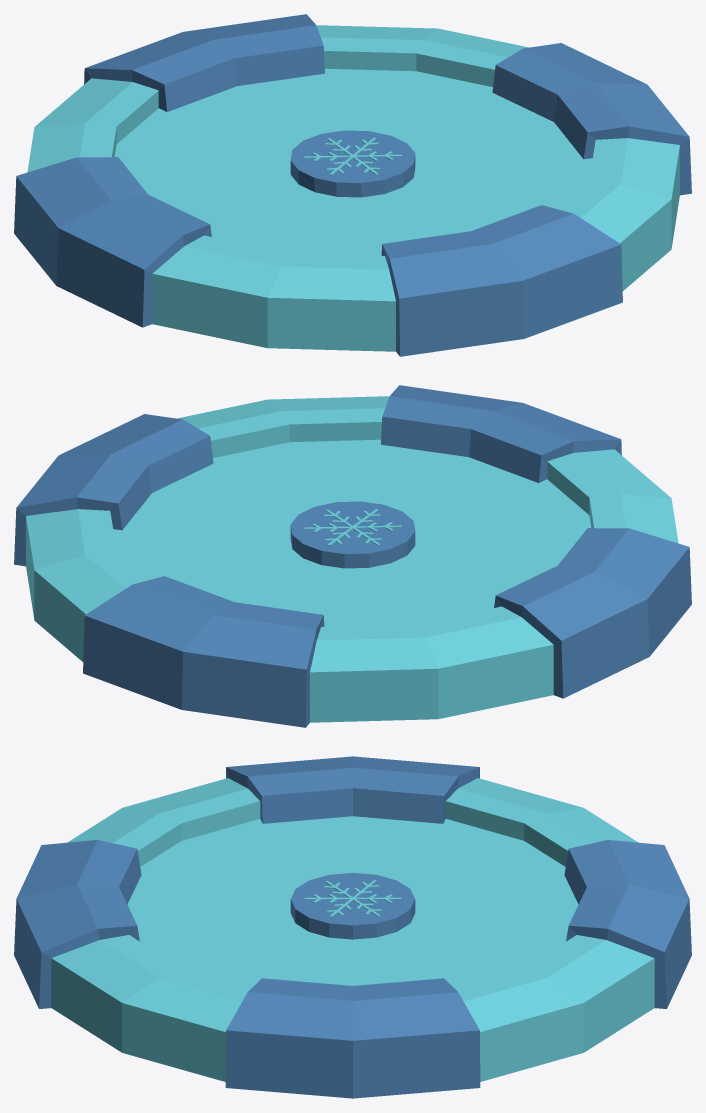
The model's file is Shield.fbx.
3 views of the same model, one above another, from view 1: azimuth 30°, elevation 25°; view 2: azimuth 150°, elevation 25°; view 3: azimuth 270°, elevation 25° (orthographic).
Visible parts, largest first — view 1: Vert.002; view 2: Vert.002; view 3: Vert.002.
Boxes of the visible parts, x1,y1,x2,y2 form: Vert.002: [14, 14, 691, 356]; Vert.002: [14, 385, 691, 727]; Vert.002: [14, 756, 691, 1098].
Size of the model in its own units: 208 by 47.9 by 208.
